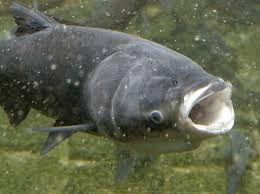Big Head Carp: (1, 1, 236, 156)
